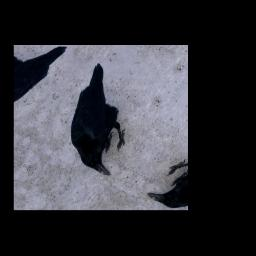Crow: (44, 62, 163, 177)
